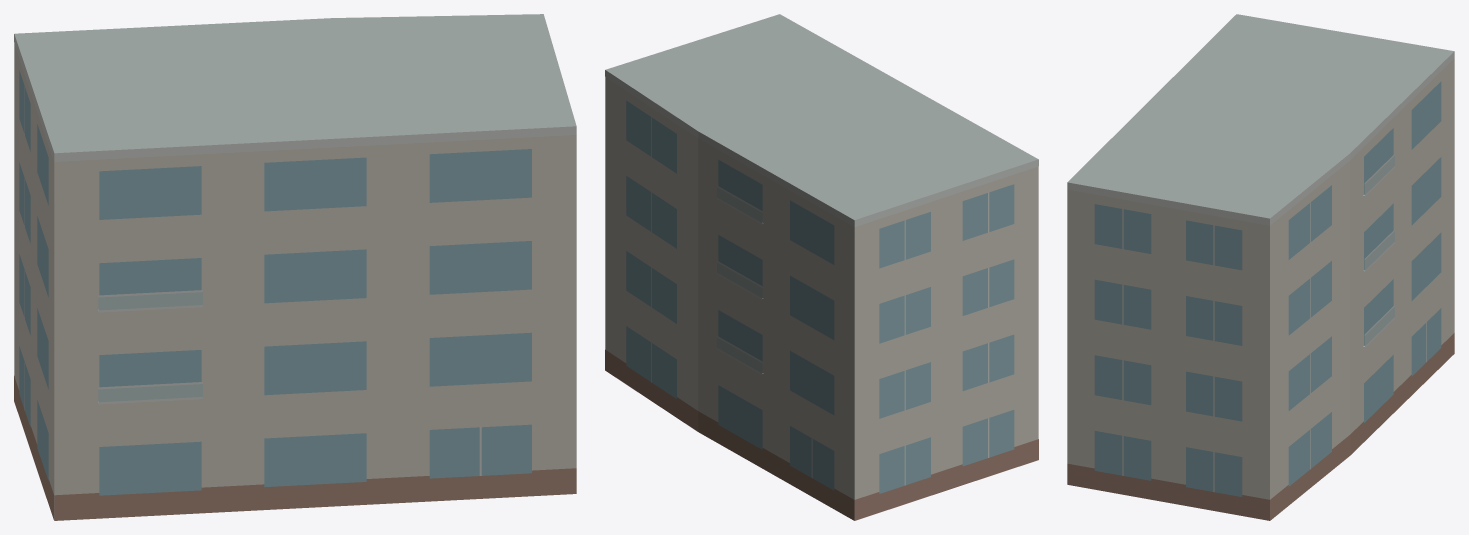
File: survey-upis-32526375.glb
The picture shows the model from 3 angles, left to right: view 1: azimuth 30°, elevation 25°; view 2: azimuth 150°, elevation 25°; view 3: azimuth 270°, elevation 25°; orthographic projection. The views are drawn at different scales.
Parts seen in each view (by area): view 1: survey-upis-32526375.tmp; view 2: survey-upis-32526375.tmp; view 3: survey-upis-32526375.tmp.
Part boxes in pixels (bbox=[...]): survey-upis-32526375.tmp: bbox=[14, 14, 576, 520]; survey-upis-32526375.tmp: bbox=[605, 14, 1038, 520]; survey-upis-32526375.tmp: bbox=[1067, 14, 1454, 520].
Bounding box in the file's own units: 15.25 × 10.5 × 12.2.
